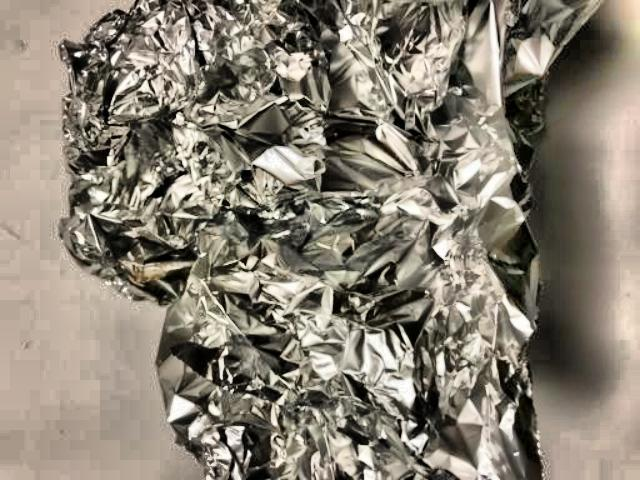Almennt: (57, 0, 593, 480)
